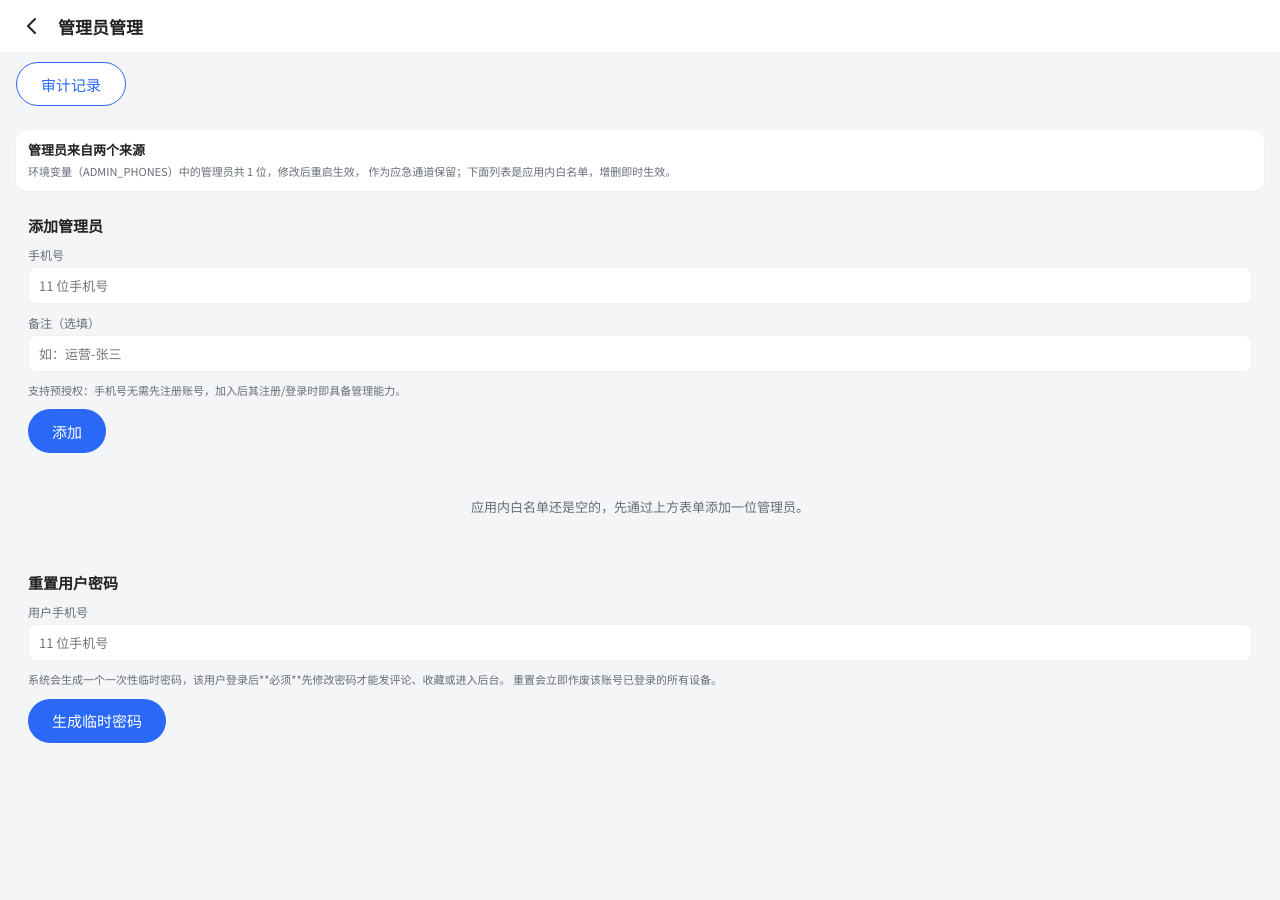
Scenario: views/AdminUsers › 手机号格式不对时前端拦截，不发请求
The width and height of the screenshot is (1280, 900).
Type "12345" into the field named "管理员手机号" at {"x": 640, "y": 285}, box [28,267,1252,304]
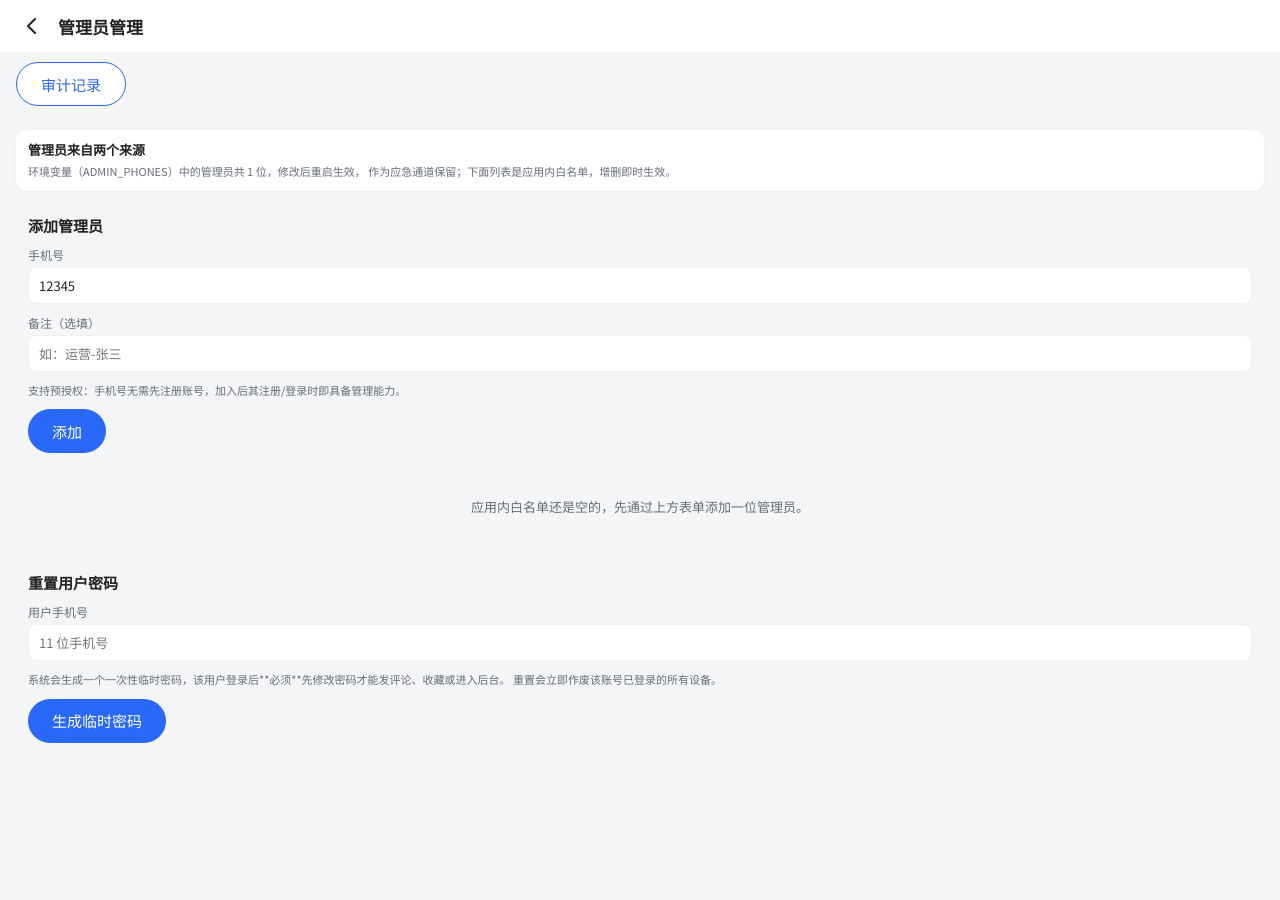
Submit the form "添加管理员 手机号 备注（选填） 支持预授权：手机号无需先注册账号，加入后其注册/登录时即具备管理能力。 添加", box [16,203,1264,465]
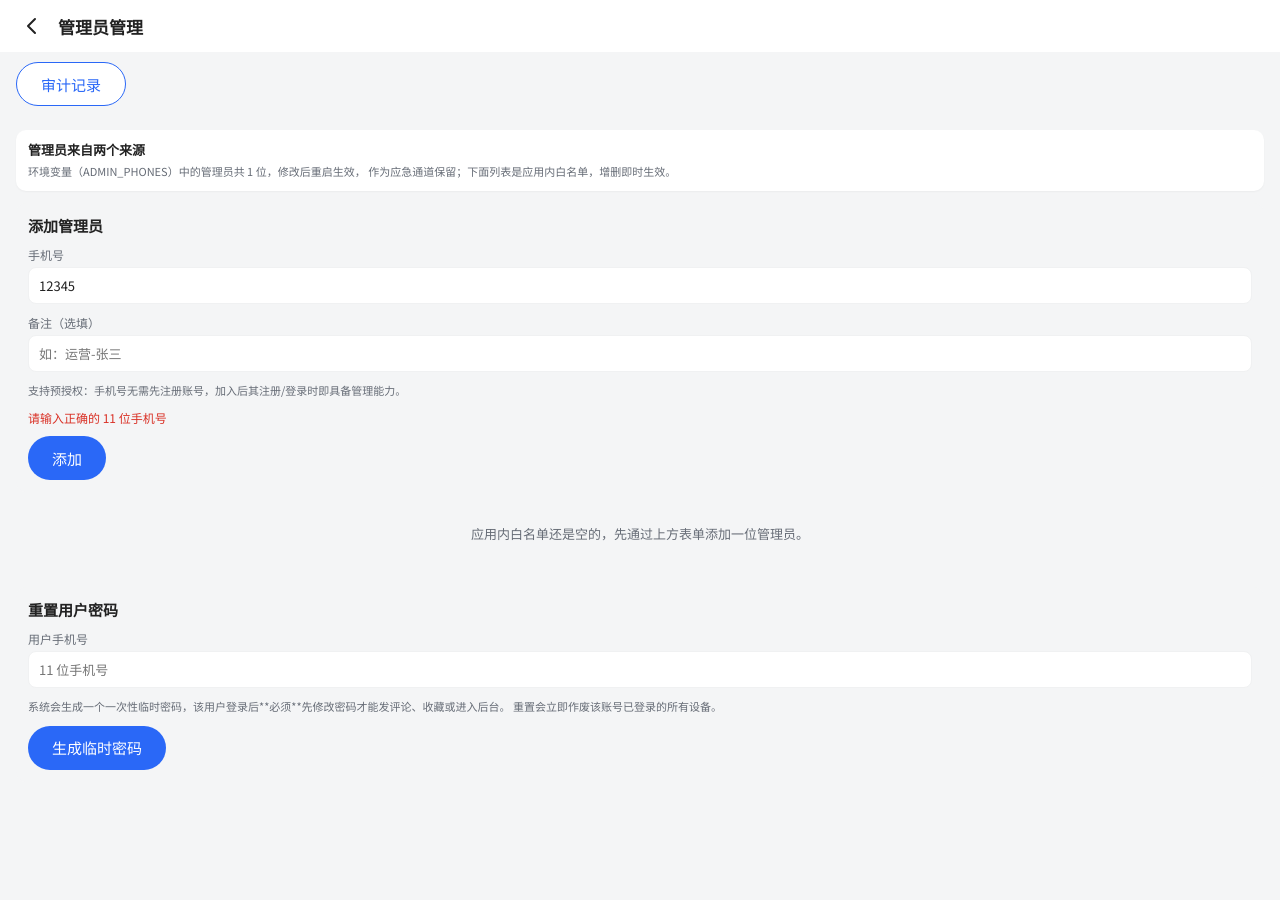
Check: the text "请输入正确的 11 位手机号" is shown, box [28,409,167,426]
